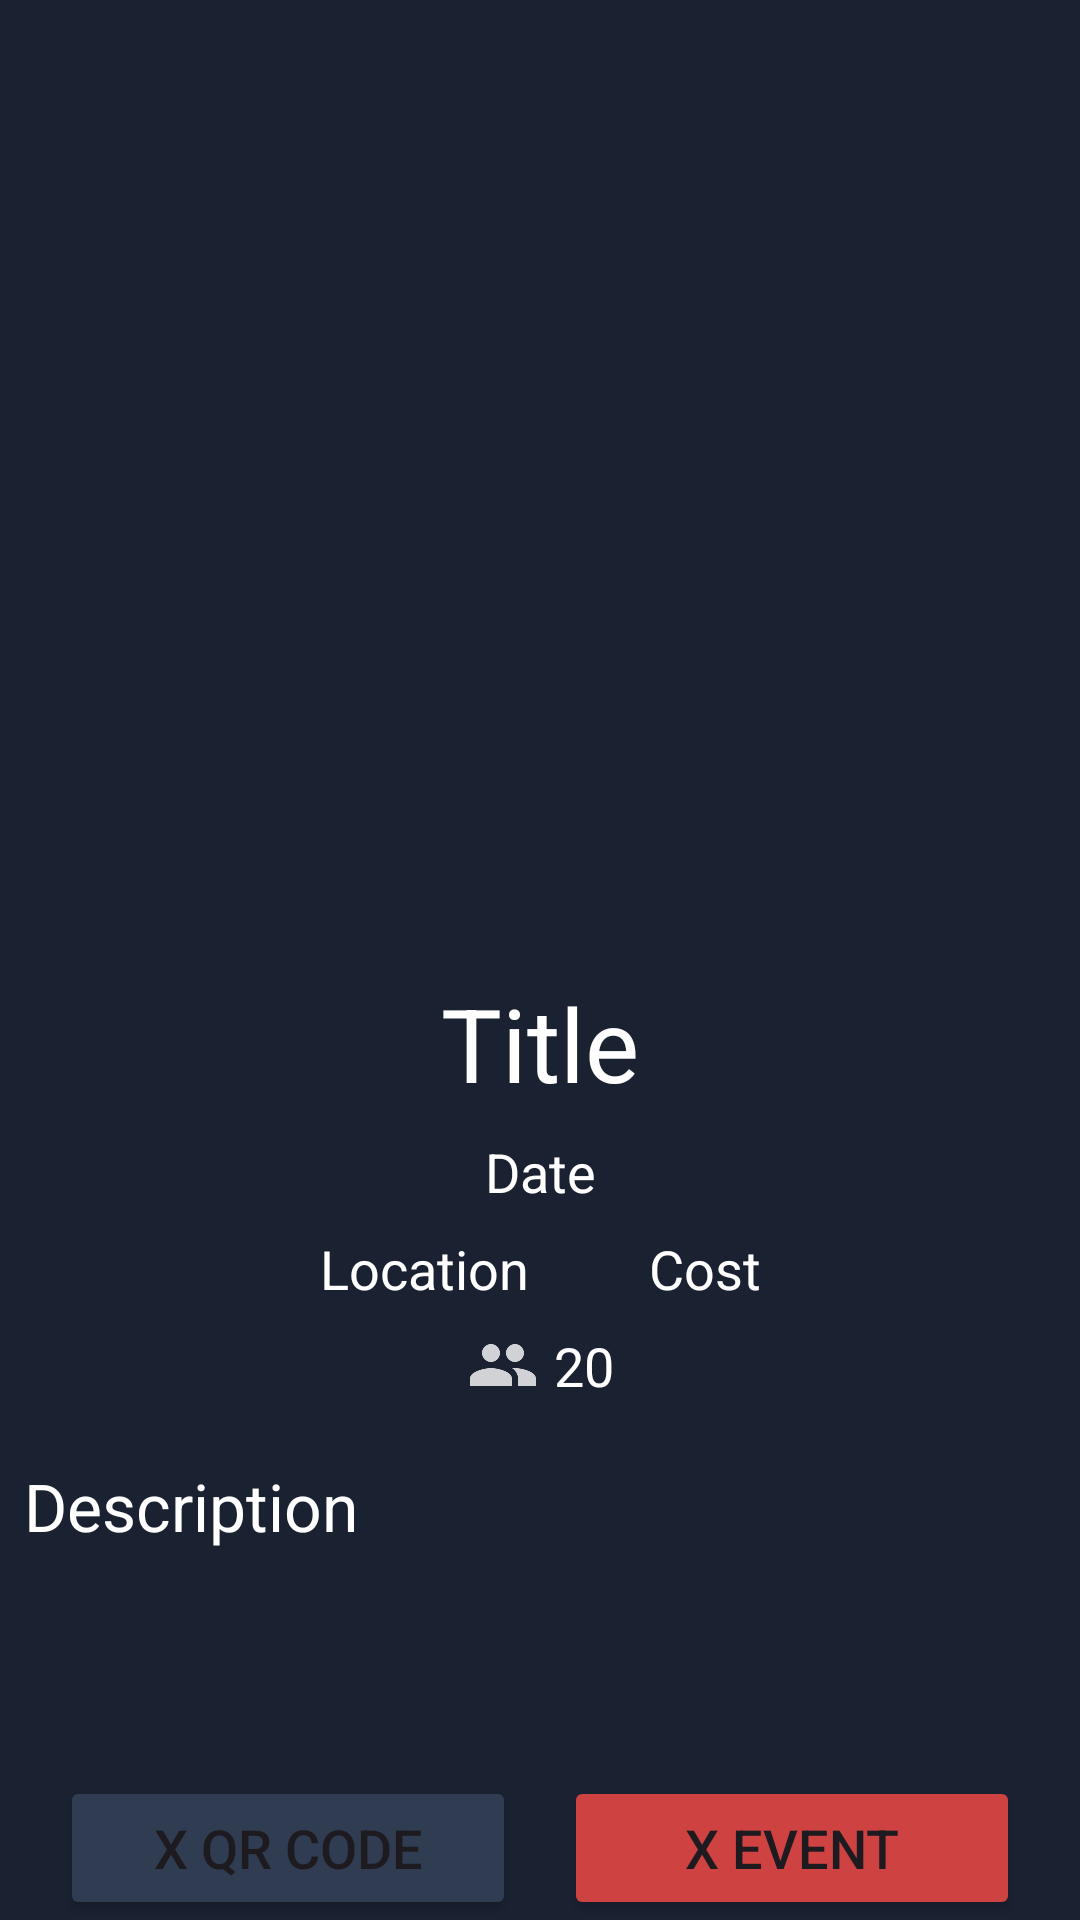

Icon bounding boxes for this 1080px×1920px phone screenshot, format (x1, y1, x2, y2):
Icon depicting a group of people: (470, 1344, 536, 1386)
